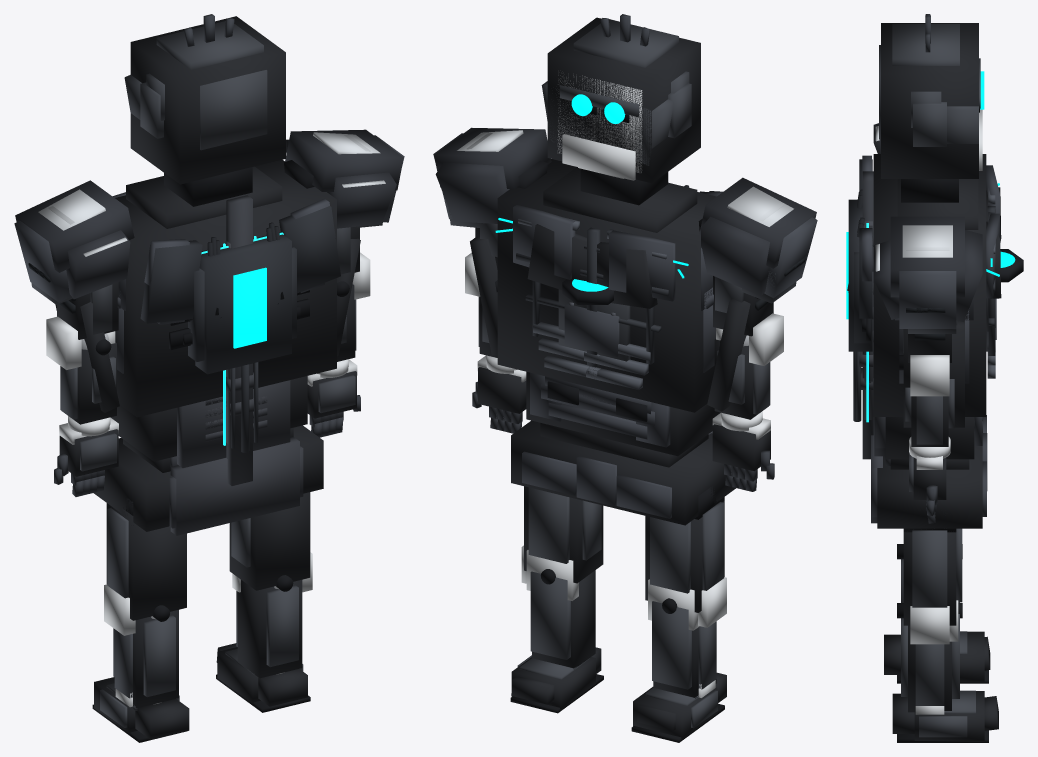
Rendered from cyberpunk_robot.glb.
3 views of the same model, side by side, from view 1: azimuth 30°, elevation 25°; view 2: azimuth 150°, elevation 25°; view 3: azimuth 270°, elevation 25° (orthographic).
Visible parts, largest first — view 1: Torso_Chest, Head_Cranium, BK_Reactor_Housing, BK_Pelvis_BackPlate, Torso_Pelvis, Leg_R_Thigh, Leg_L_Thigh, BK_Lumbar_Main, Head_BackPanel, SArmor_L_MainCap, SArmor_R_MainCap, BK_ShoulderBlade_R (+40 smaller); view 2: Torso_Chest, Head_Cranium, Torso_Pelvis, Torso_Collar, SArmor_R_FrontPlate, SArmor_L_FrontPlate, SArmor_L_MainCap, Leg_L_Shin_FrontGuard, SArmor_R_MainCap, Leg_R_Shin_FrontGuard, Torso_Abdomen, CD_UpperPanel_R (+56 smaller); view 3: Head_Cranium, Torso_Chest, Torso_Pelvis, SArmor_L_OuterPlate, SArmor_L_MainCap, Leg_L_Thigh_OuterRidge, Head_Crown, Torso_Abdomen, Torso_Collar, Leg_L_Shin_OuterRidge, Side_ArmorPlate_L, Leg_L_Thigh (+46 smaller).
Boxes of the visible parts, x1,y1,x2,y2 form: Torso_Chest: (115, 159, 336, 417); Head_Cranium: (130, 16, 285, 184); BK_Reactor_Housing: (195, 232, 291, 374); BK_Pelvis_BackPlate: (170, 437, 299, 535); Torso_Pelvis: (93, 425, 323, 531); Leg_R_Thigh: (106, 503, 186, 620); Leg_L_Thigh: (229, 492, 310, 590); BK_Lumbar_Main: (177, 380, 290, 467); Head_BackPanel: (200, 70, 267, 150); SArmor_L_MainCap: (285, 129, 403, 191); SArmor_R_MainCap: (15, 180, 134, 272); BK_ShoulderBlade_R: (140, 240, 202, 323); Torso_Chest: (497, 159, 716, 412); Head_Cranium: (547, 17, 700, 183); Torso_Pelvis: (511, 420, 735, 525); Torso_Collar: (543, 167, 697, 232); SArmor_R_FrontPlate: (701, 216, 769, 295); SArmor_L_FrontPlate: (435, 162, 509, 223); SArmor_L_MainCap: (434, 127, 551, 189); Leg_L_Shin_FrontGuard: (530, 571, 570, 659); SArmor_R_MainCap: (699, 177, 816, 268); Leg_R_Shin_FrontGuard: (652, 601, 691, 689); Torso_Abdomen: (526, 371, 720, 456); CD_UpperPanel_R: (609, 230, 675, 301); Head_Cranium: (881, 23, 978, 178); Torso_Chest: (873, 154, 986, 416); Torso_Pelvis: (877, 433, 982, 528); SArmor_L_OuterPlate: (899, 271, 956, 328); SArmor_L_MainCap: (890, 216, 964, 297); Leg_L_Thigh_OuterRidge: (912, 530, 947, 607); Head_Crown: (892, 24, 959, 65); Torso_Abdomen: (885, 417, 974, 459); Torso_Collar: (897, 179, 978, 229); Leg_L_Shin_OuterRidge: (915, 644, 944, 705); Side_ArmorPlate_L: (903, 319, 964, 427); Leg_L_Thigh: (903, 529, 956, 625).
Size of what is drawn, in the model's own units: 1.88 by 3.45 by 0.81.
